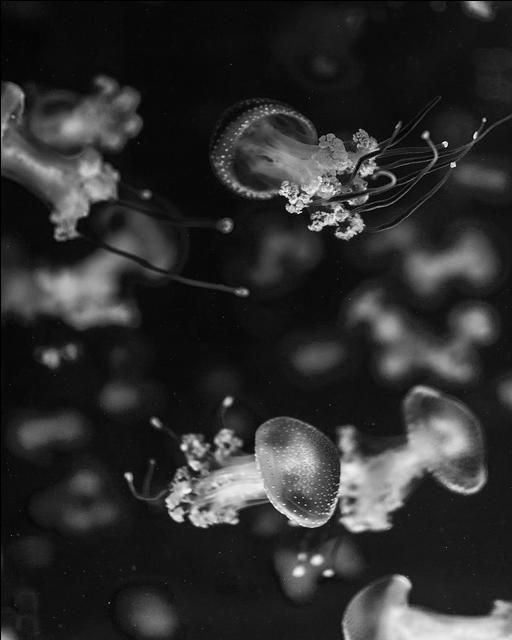Non_Gorille: (26, 68, 480, 580)
